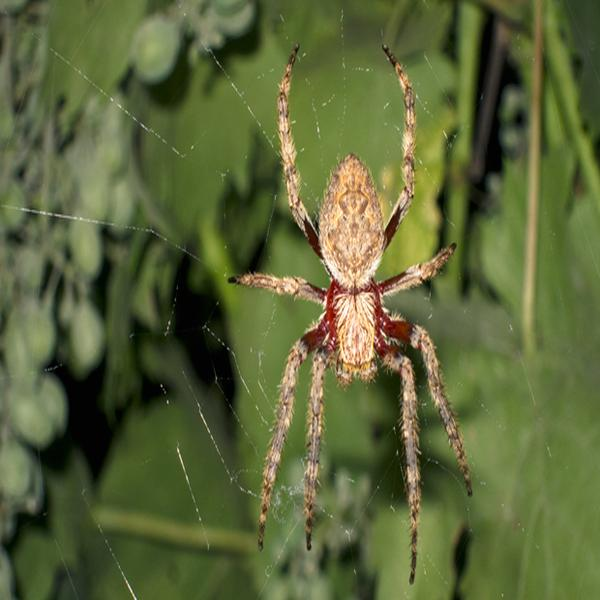Garden_Orb_Weaver_Spider: (230, 45, 472, 583)
